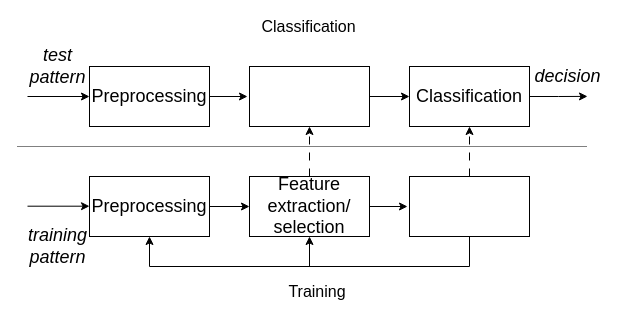
Some shapes in this 618 by 324 pixel diagram are drawn without their labels. The centre of each missing label's shape, as x and y in pixels:
"Feature measuring" belongs at (309,96).
"Learning" belongs at (469,206).
